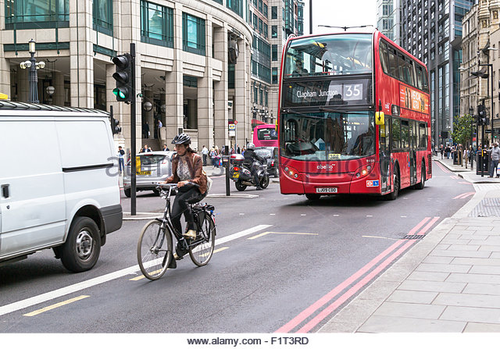bikerider: (132, 132, 231, 281)
